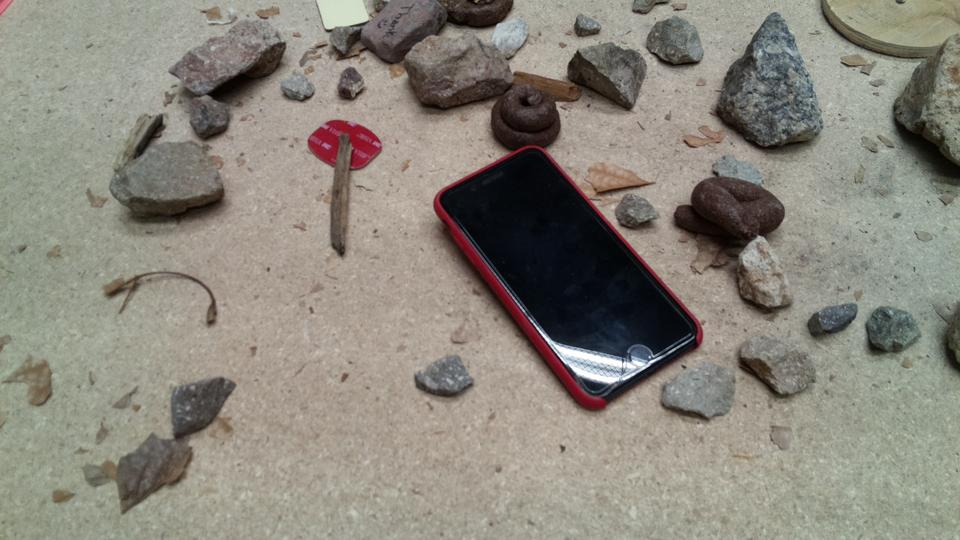poop: (674, 174, 788, 244), (489, 83, 561, 153), (442, 1, 514, 28)
